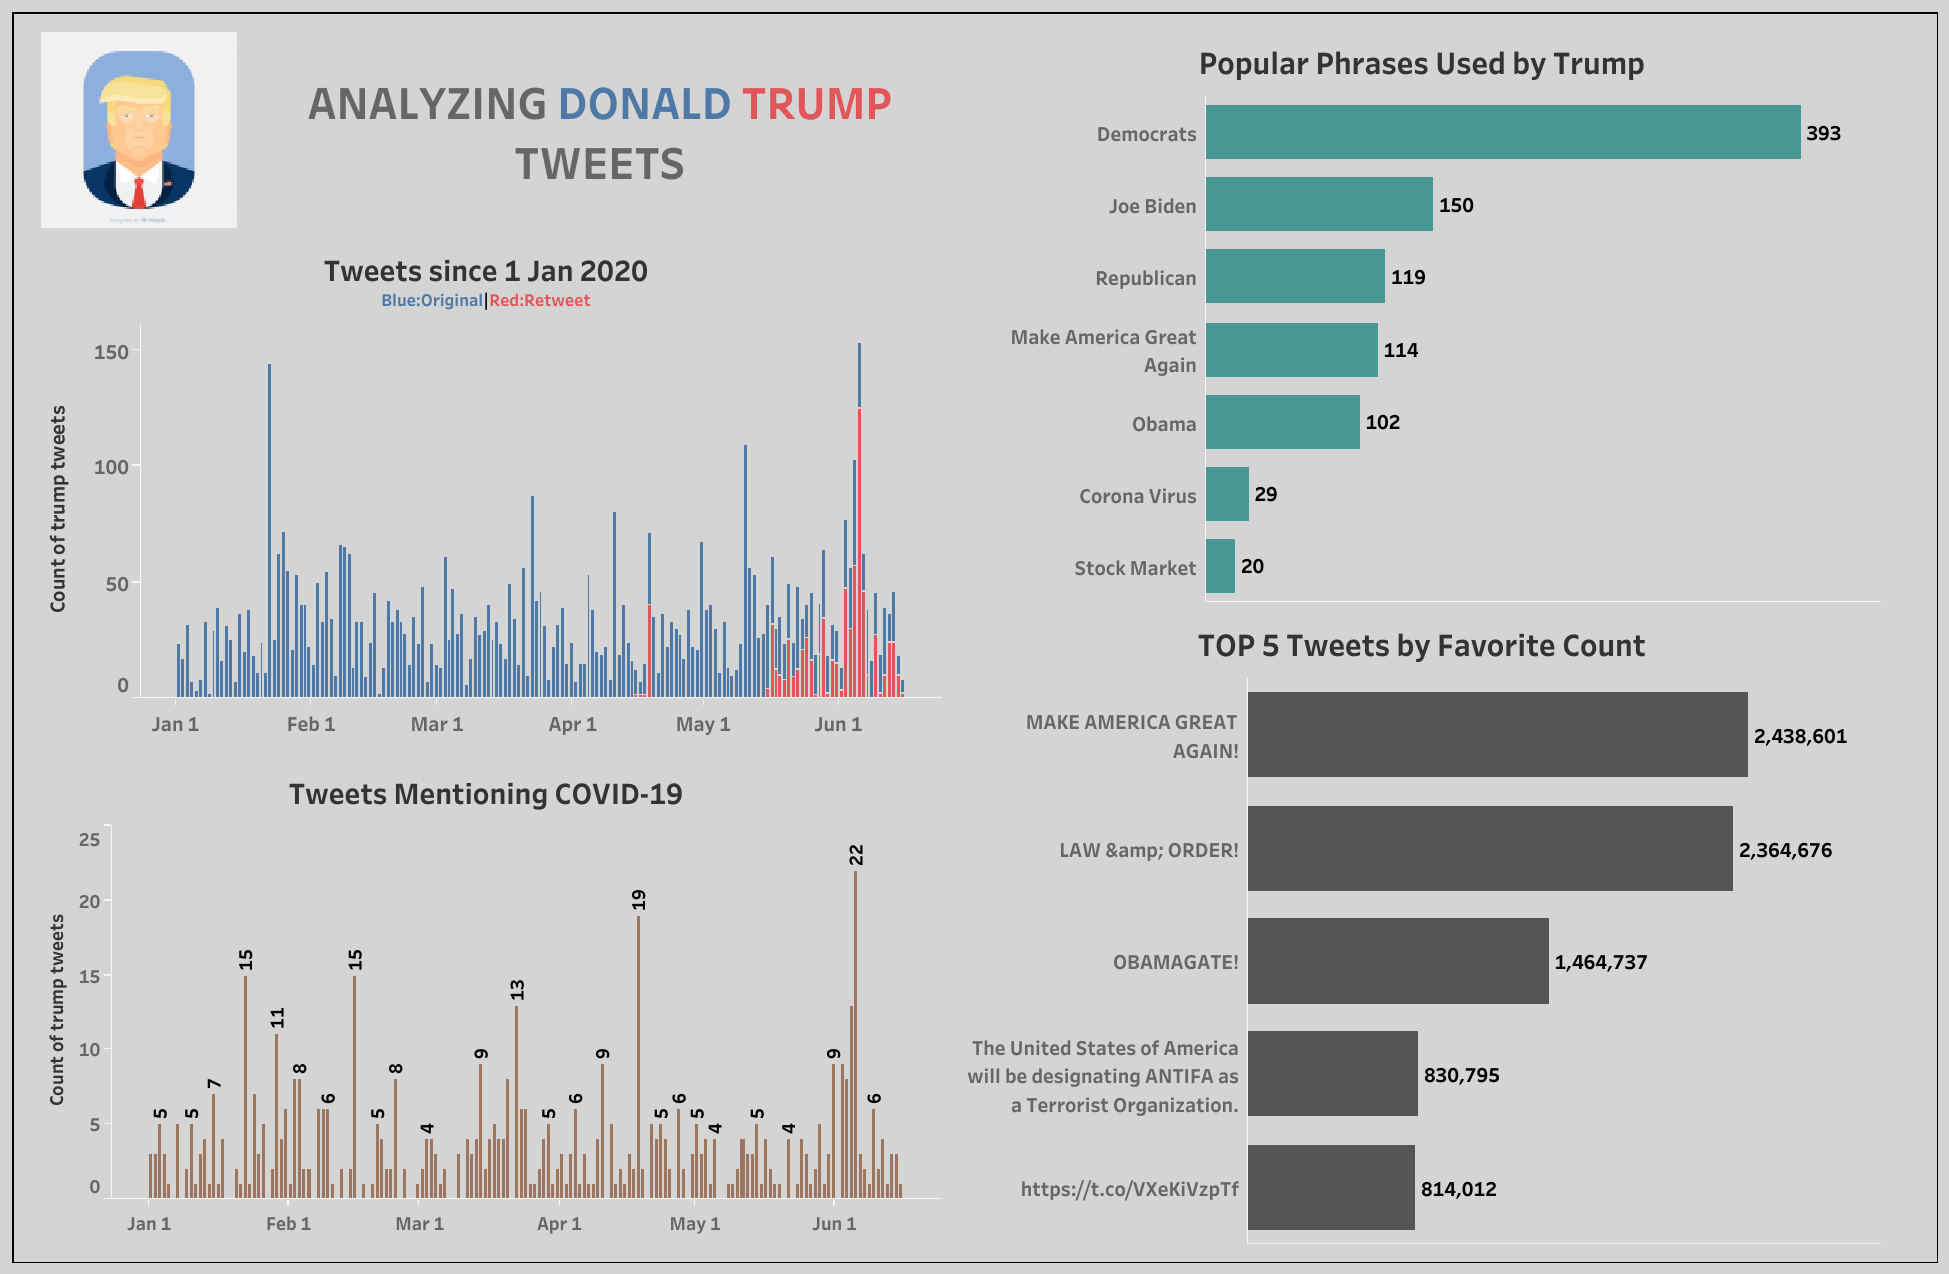

Layout of this report page (visuals, bound fields, positions):
{"tool":"tableau","page":{"name":"Trump Twitter Dashboard","canvas":[1300,850],"ordinal":0},"visuals":[{"type":"worksheet","box":[0,0,1300,850]},{"type":"worksheet","param":"horz","box":[9,9,1282,832]},{"type":"worksheet","param":"vert","box":[13,13,622,824]},{"type":"worksheet","param":"vert","box":[635,13,626,824]},{"type":"worksheet","param":"horz","box":[17,17,614,139]},{"type":"worksheet","param":"C:/Users/91787/Desktop/donaldimage.jpg","box":[17,17,152,139]},{"type":"worksheet","box":[169,17,462,139]},{"type":"worksheet","title":"Popular Phrases","mark":"Automatic","rows":["Mentions COVID-19 (copy)_520728769369767938"],"cols":["trump.txt_7A730D92D5C347E5B46ADA4412821C1D"],"box":[639,17,618,388]},{"type":"worksheet","title":"Tweet Count","mark":"Bar","rows":["trump.txt_7A730D92D5C347E5B46ADA4412821C1D"],"cols":["created_at"],"box":[17,156,614,352.5]},{"type":"worksheet","title":"TOP 5 Tweets","mark":"Automatic","rows":["text"],"cols":["favorite_count"],"box":[639,405,618,428]},{"type":"worksheet","title":"Tweets Mentioning Covid-19","mark":"Bar","rows":["trump.txt_7A730D92D5C347E5B46ADA4412821C1D"],"cols":["created_at"],"box":[17,508.5,614,324.5]}]}

Visuals, with their boxes in screenshot pixels (x1, y1, x2, y2), scaled from the page's 1300x850 canvas onto the 1949x1274 screenshot:
worksheet: region(0, 0, 1948, 1273)
worksheet: region(13, 13, 1936, 1261)
worksheet: region(19, 19, 952, 1255)
worksheet: region(952, 19, 1891, 1255)
worksheet: region(25, 25, 946, 234)
worksheet: region(25, 25, 253, 234)
worksheet: region(253, 25, 946, 234)
"Popular Phrases" worksheet: region(958, 25, 1885, 607)
"Tweet Count" worksheet (Bar marks): region(25, 234, 946, 762)
"TOP 5 Tweets" worksheet: region(958, 607, 1885, 1249)
"Tweets Mentioning Covid-19" worksheet (Bar marks): region(25, 762, 946, 1249)
